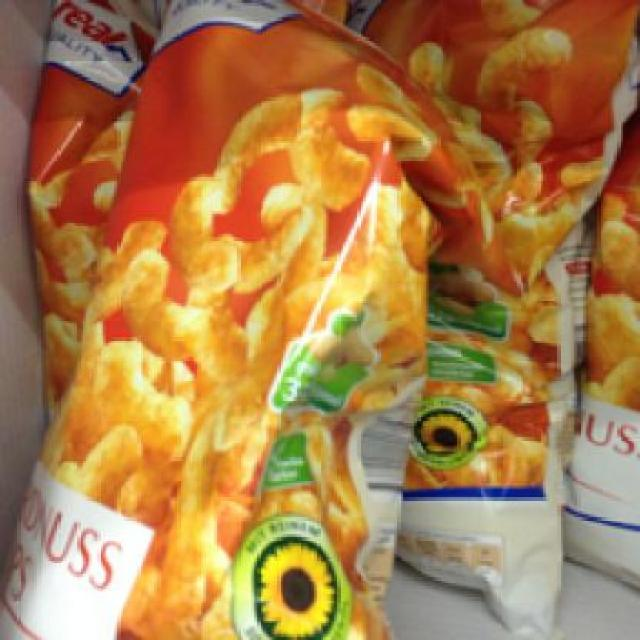Chips: (8, 0, 454, 637)
